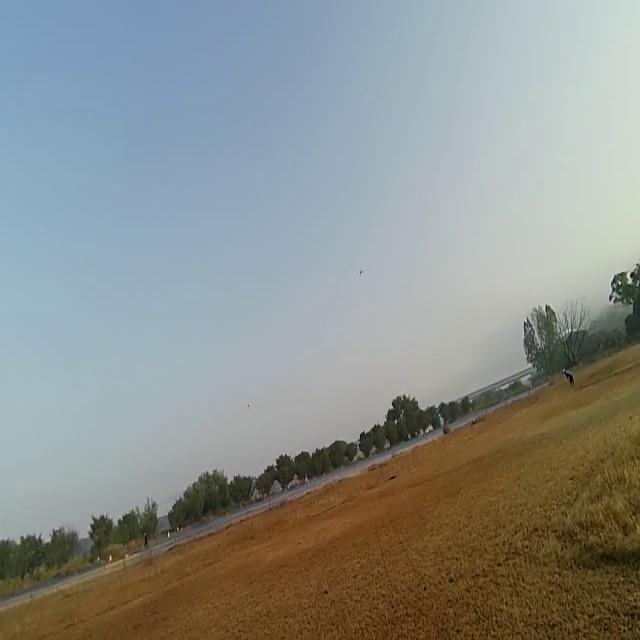iha: (359, 262, 363, 281)
